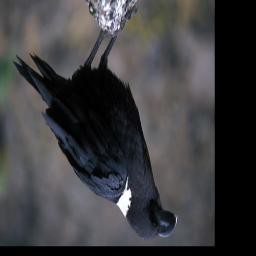Crow: (12, 2, 179, 240)
